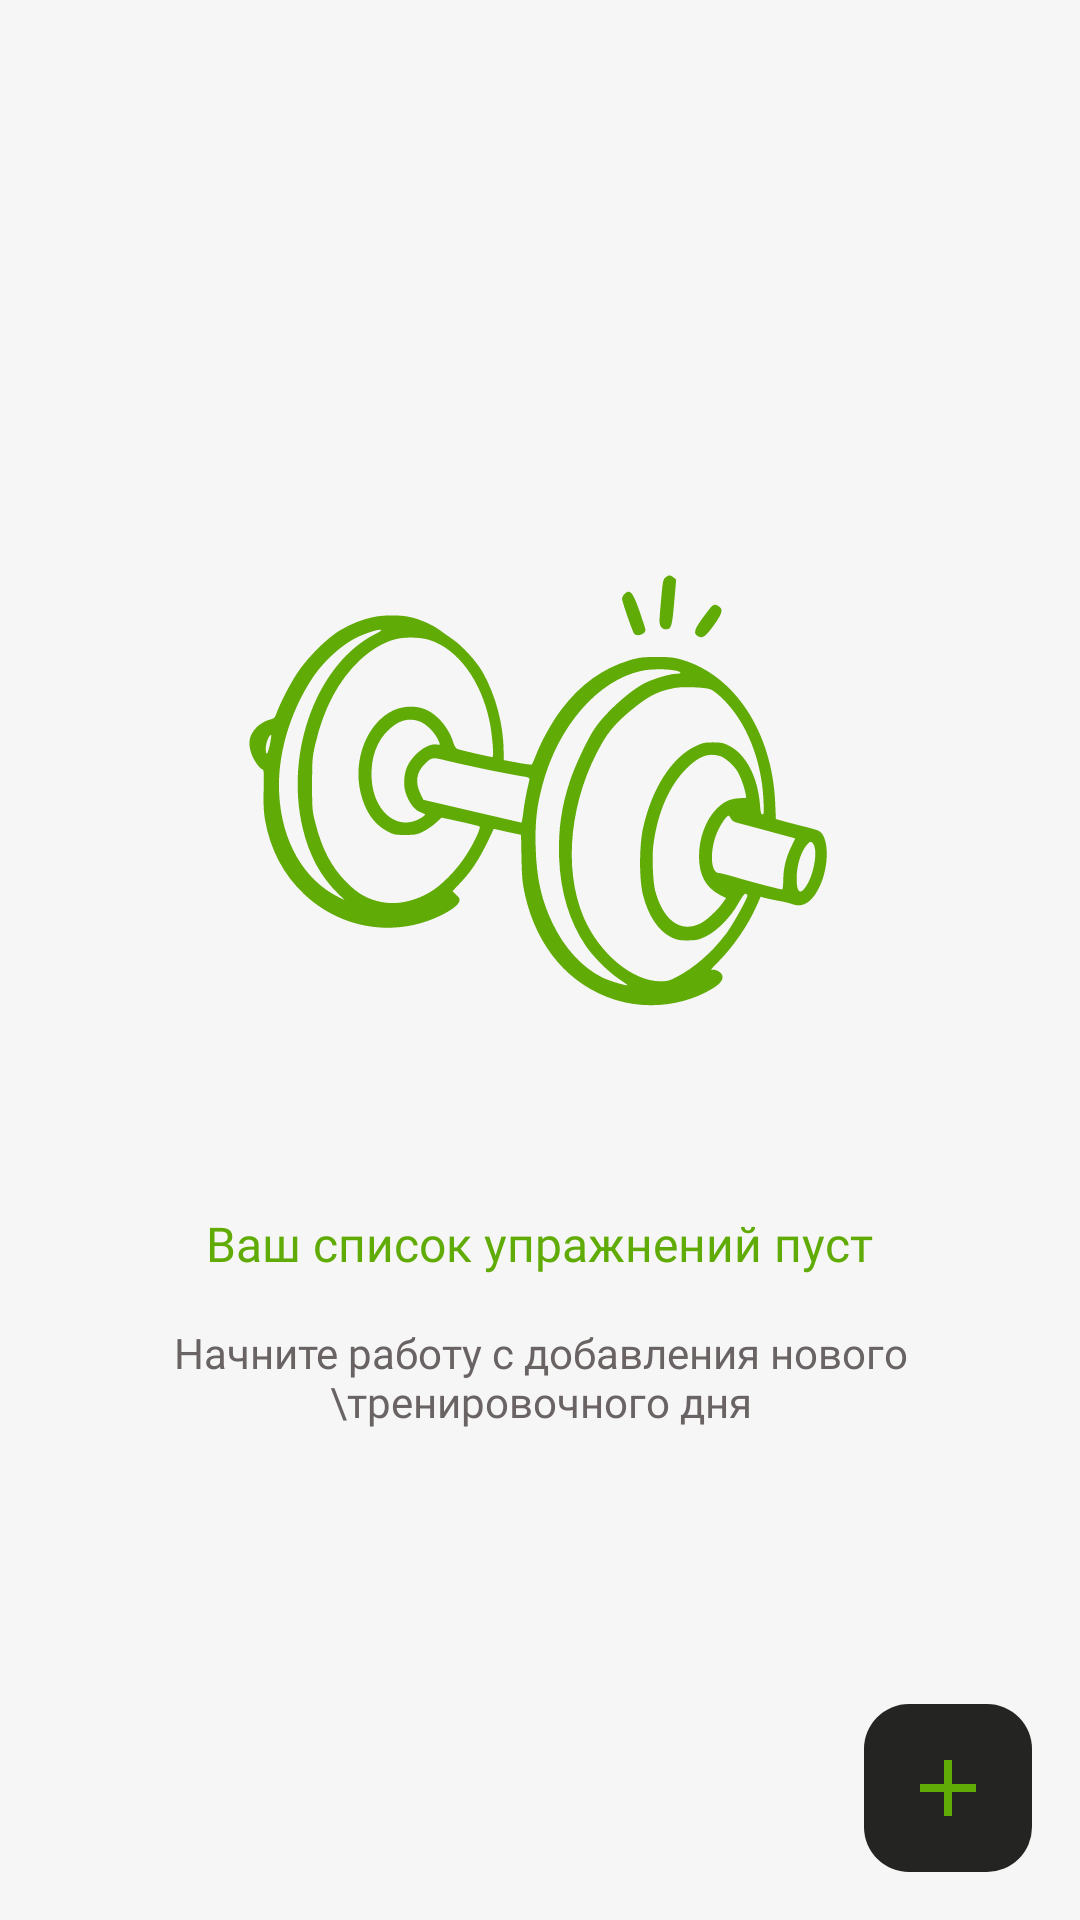

Locate icon controls on the screen. Image size 1080px x 1920px, boxes as [x1, y1, x2, y2].
Floating Action Bar: [864, 1704, 1032, 1872]
